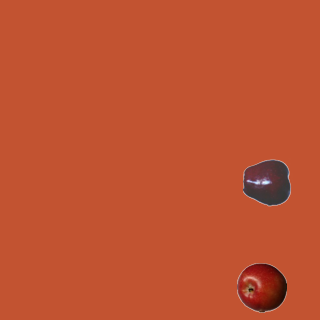Apple Braeburn: (236, 262, 286, 312)
Apple Red Delicious: (242, 157, 292, 207)
